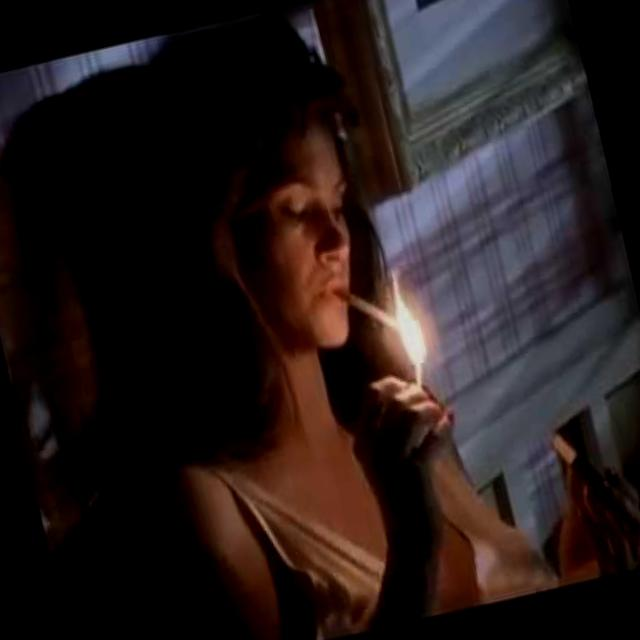smoke: (330, 272, 420, 352)
